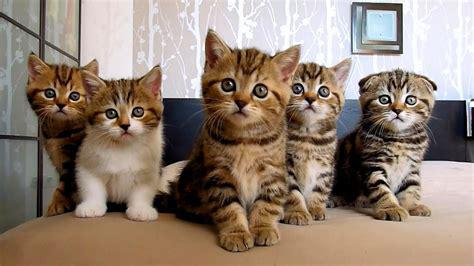cat: (175, 27, 301, 250), (347, 70, 437, 221), (76, 65, 162, 220), (278, 56, 352, 224), (26, 53, 99, 216)
